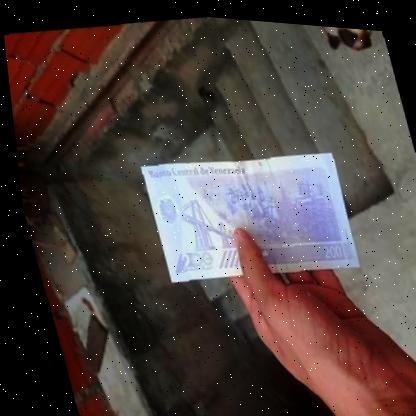two_hundred-back-vef: (132, 131, 360, 295)
